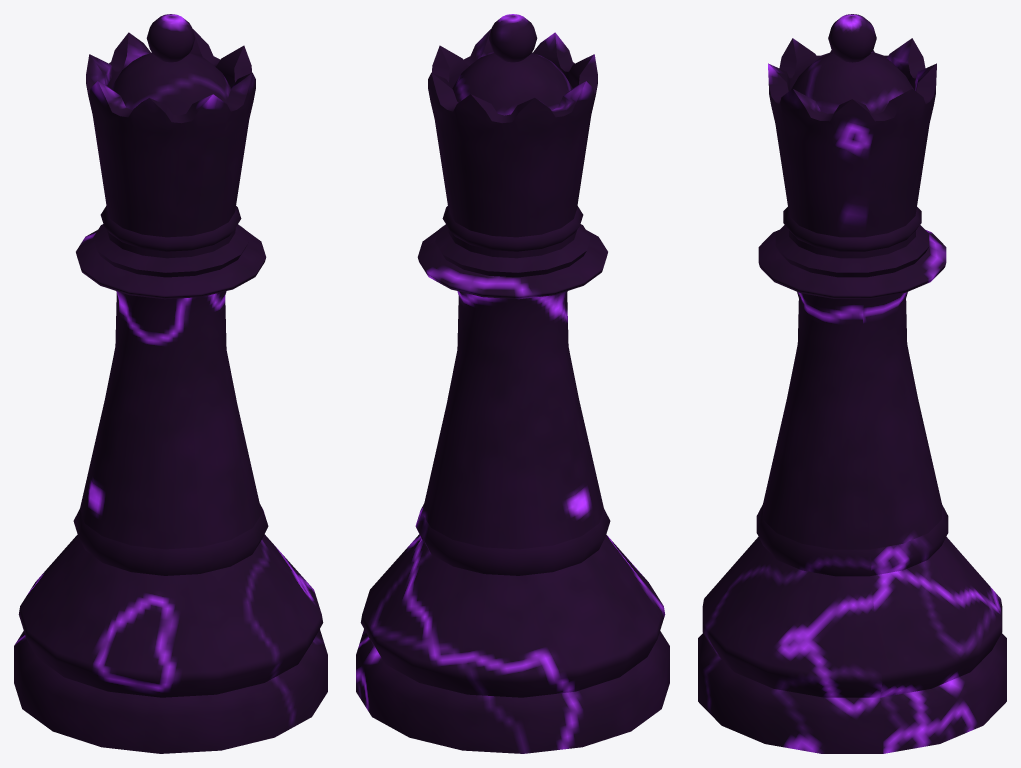
The model's file is item-4-9.glb.
The picture shows the model from 3 angles, left to right: view 1: azimuth 30°, elevation 25°; view 2: azimuth 150°, elevation 25°; view 3: azimuth 270°, elevation 25°; orthographic projection.
Parts seen in each view (by area): view 1: BlackQueen; view 2: BlackQueen; view 3: BlackQueen.
Boxes of the visible parts, <box> form: BlackQueen: <box>14,14,327,753</box>; BlackQueen: <box>356,14,669,753</box>; BlackQueen: <box>698,14,1006,753</box>.
Size of the model in its own units: 0.0968 by 0.2326 by 0.0968.
1 material, 1 textured.
